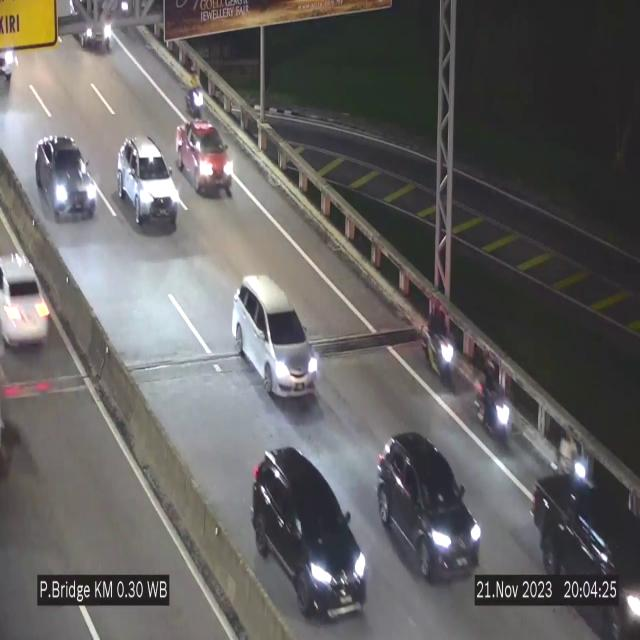Car: (252, 444, 368, 625), (529, 466, 640, 640), (377, 431, 481, 580), (232, 275, 320, 399), (0, 242, 56, 354), (118, 136, 178, 230), (176, 115, 238, 205), (36, 135, 97, 218), (72, 0, 114, 55), (0, 54, 22, 89)
Motorcycle: (426, 288, 458, 389), (479, 360, 511, 442), (558, 420, 588, 492), (185, 61, 207, 120)
